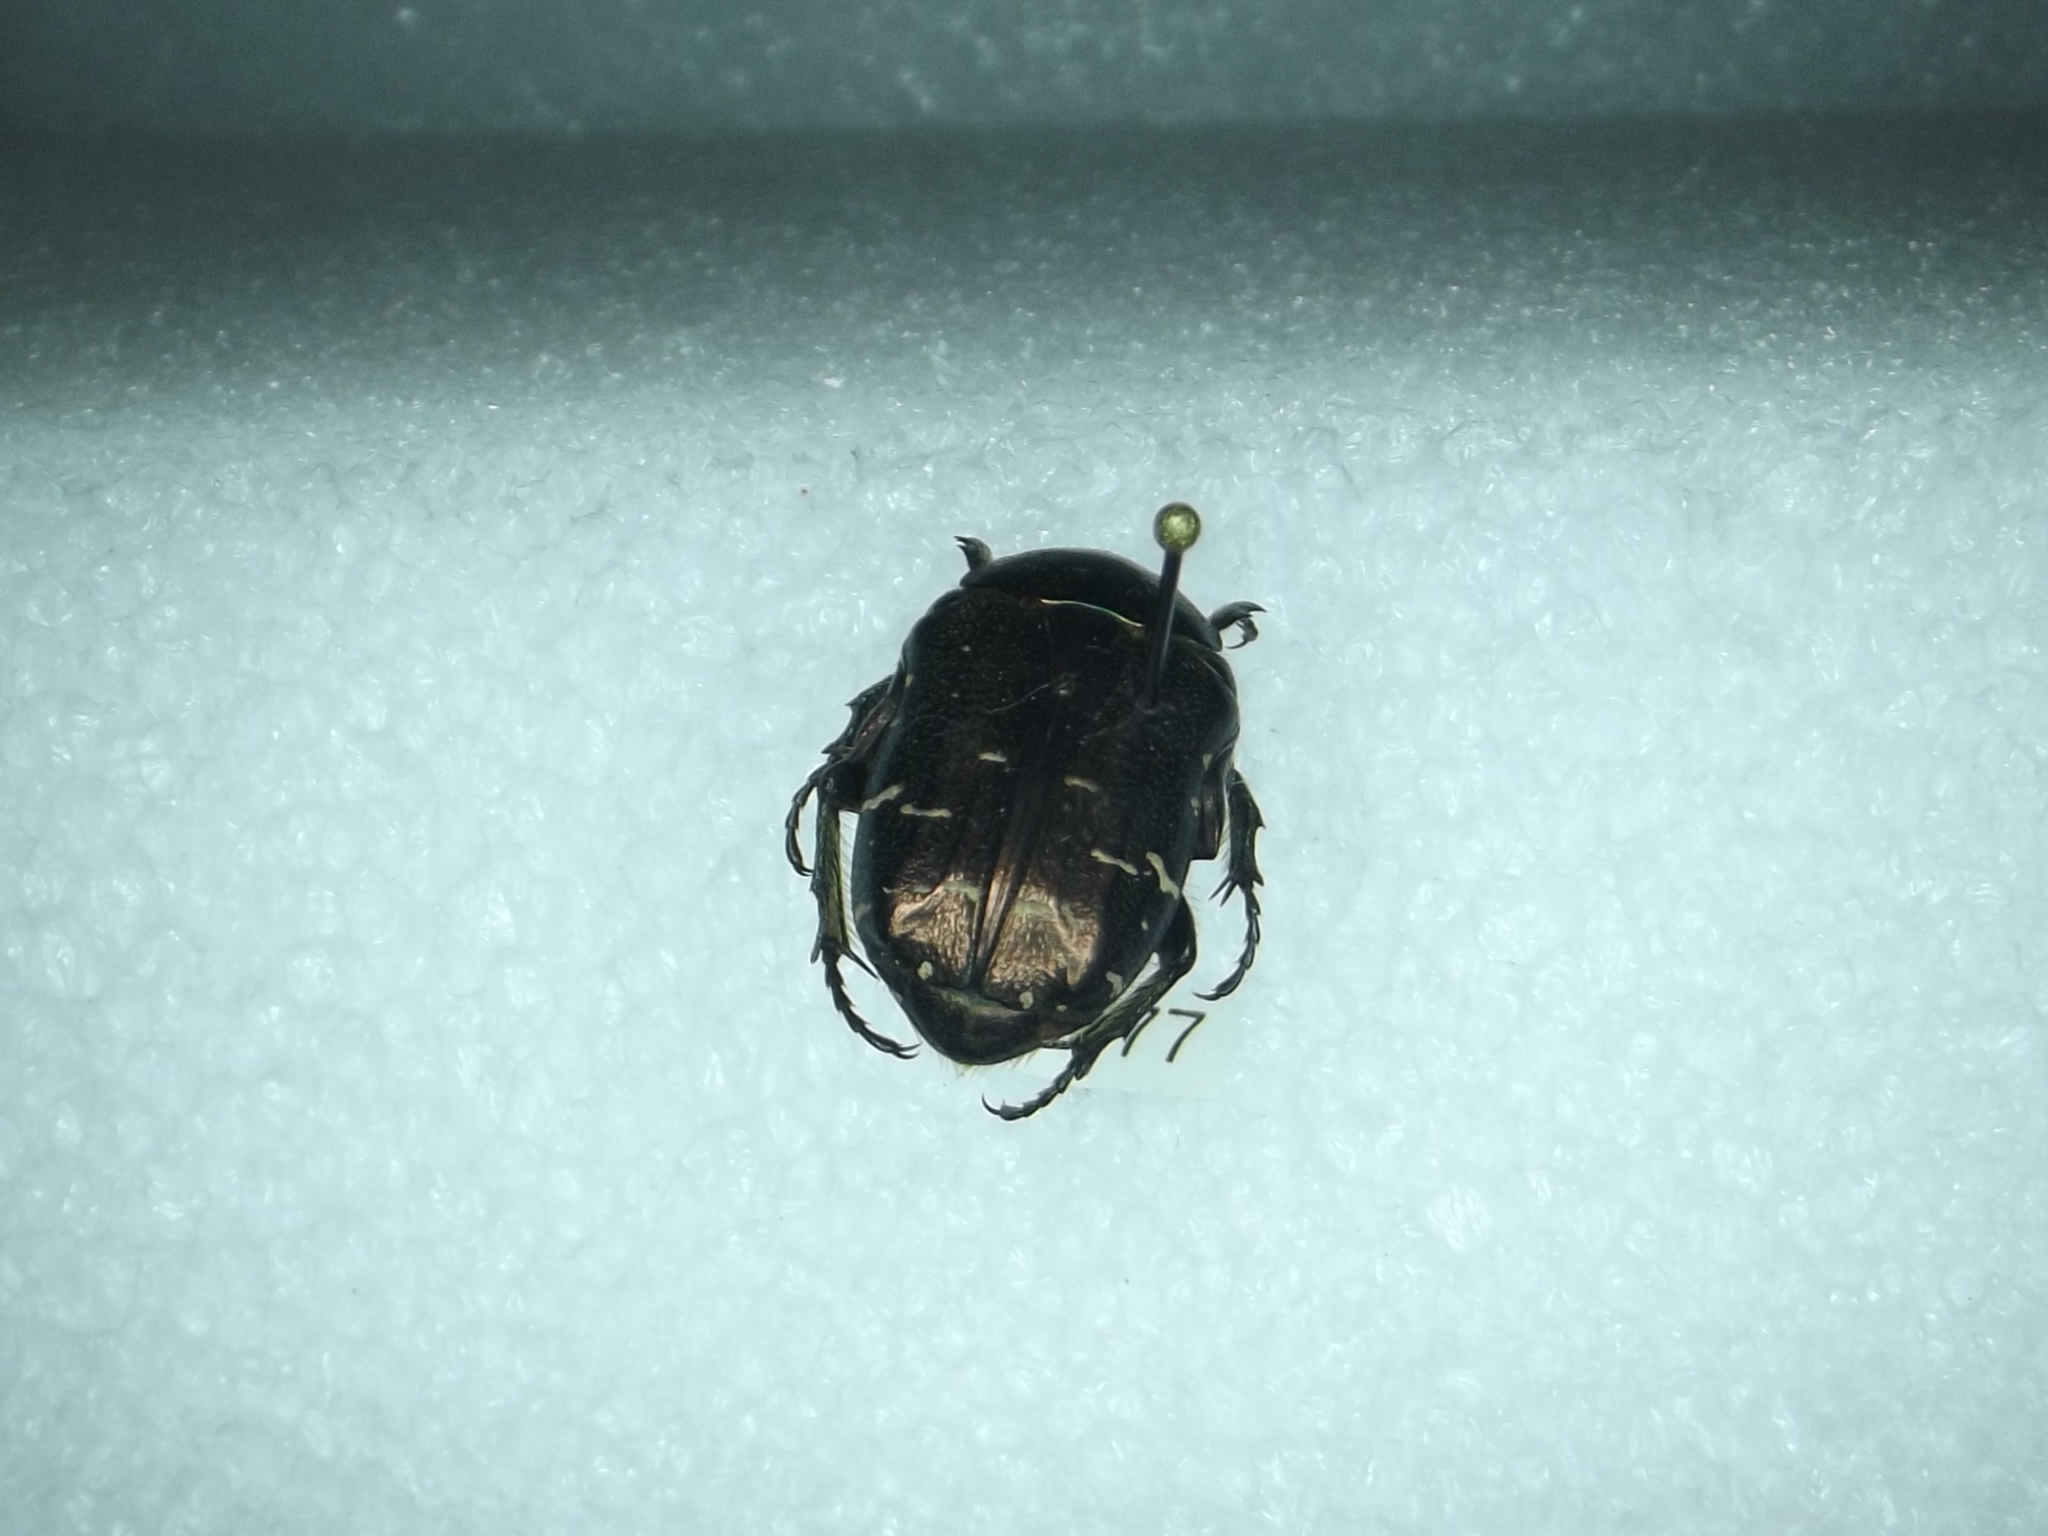Cetonia_aurata: (763, 518, 1293, 1110)
